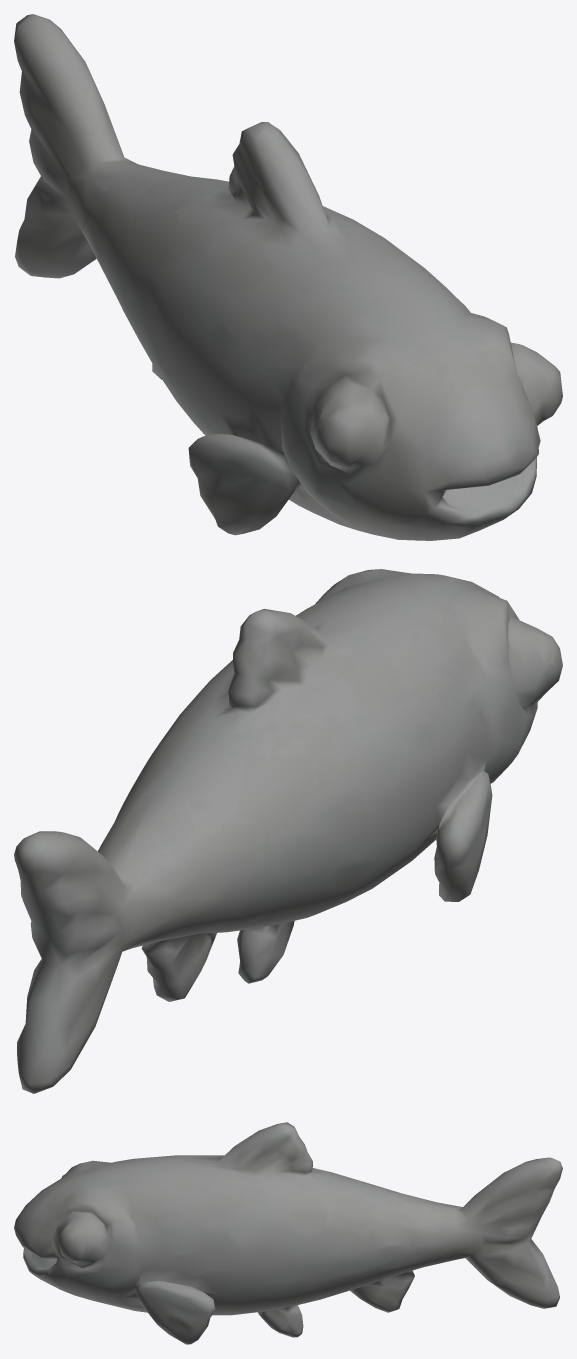
File: fish-sardine.glb
3 renders of one model, top to bottom at view 1: azimuth 30°, elevation 25°; view 2: azimuth 150°, elevation 25°; view 3: azimuth 270°, elevation 25°, orthographic. The views are drawn at different scales.
Parts seen in each view (by area): view 1: tripo_node_2463a4c0-92f3-4b4e-b48e-4f2b96257f72; view 2: tripo_node_2463a4c0-92f3-4b4e-b48e-4f2b96257f72; view 3: tripo_node_2463a4c0-92f3-4b4e-b48e-4f2b96257f72.
Boxes of the visible parts, x1,y1,x2,y2 form: tripo_node_2463a4c0-92f3-4b4e-b48e-4f2b96257f72: (14, 14, 562, 540); tripo_node_2463a4c0-92f3-4b4e-b48e-4f2b96257f72: (14, 569, 562, 1093); tripo_node_2463a4c0-92f3-4b4e-b48e-4f2b96257f72: (14, 1122, 562, 1344).
Size of the model in its own units: 0.344 by 0.4281 by 1.
1 material, 1 textured.
